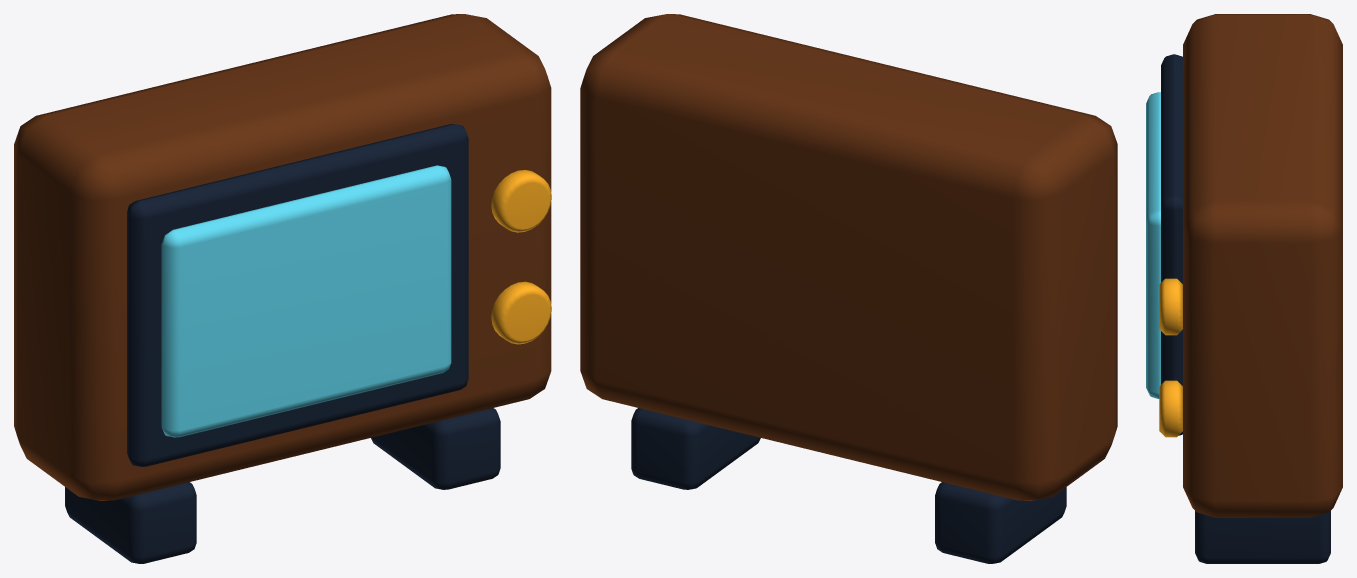
The model's file is television.glb.
3 views of the same model, side by side, from view 1: azimuth 30°, elevation 25°; view 2: azimuth 150°, elevation 25°; view 3: azimuth 270°, elevation 25° (orthographic). The views are drawn at different scales.
Visible parts, largest first — view 1: television; view 2: television; view 3: television.
Boxes of the visible parts, <box> form: television: <box>14,14,551,563</box>; television: <box>580,14,1117,563</box>; television: <box>1146,14,1342,563</box>.
Bounding box in the file's own units: 1 × 0.8294 × 0.3912.
Materials: 1 (1 with a texture image).
